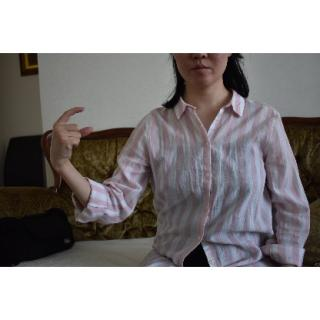DELL: (47, 103, 94, 171)
